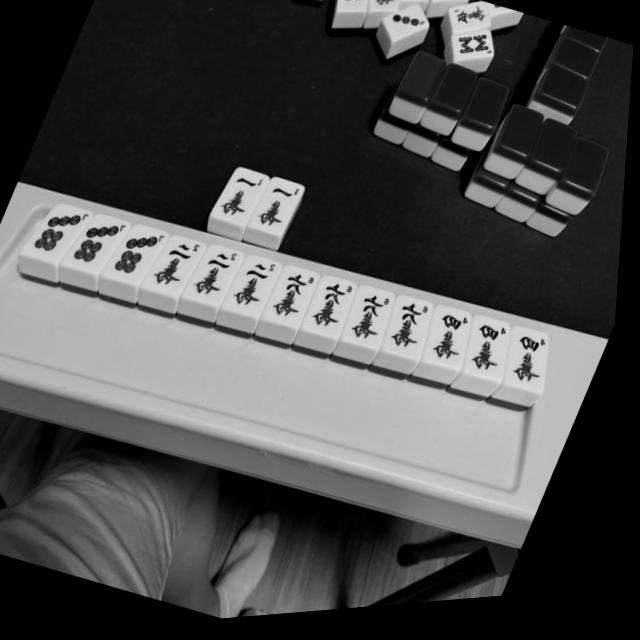sc1: (214, 166, 272, 233), (252, 178, 308, 244)
sc2: (186, 243, 247, 313), (150, 232, 209, 302), (227, 255, 285, 325)
sc4: (506, 332, 562, 401), (465, 320, 521, 388), (426, 311, 480, 376)
sc6: (305, 277, 363, 345), (345, 290, 402, 359), (266, 266, 323, 334), (386, 299, 440, 366)
sd7: (31, 194, 95, 264), (113, 221, 172, 289), (74, 209, 132, 275)
